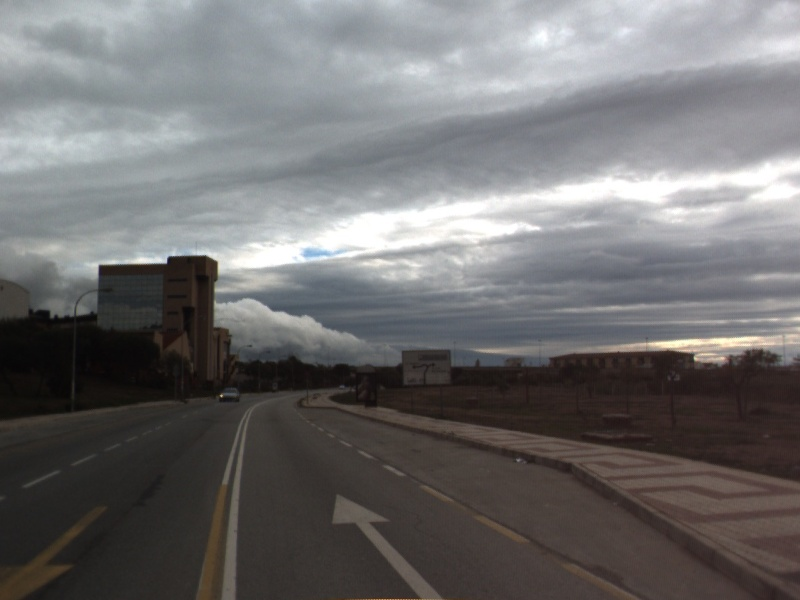STRAIGHT: (329, 489, 447, 600)
